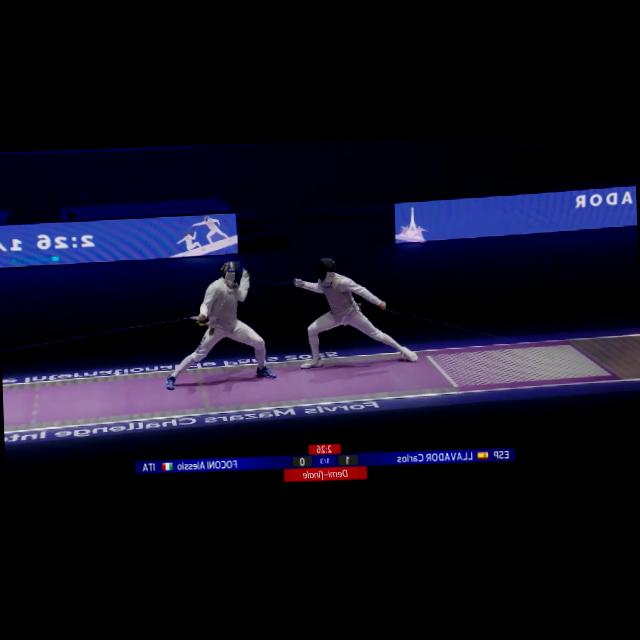blade: (250, 275, 302, 290)
